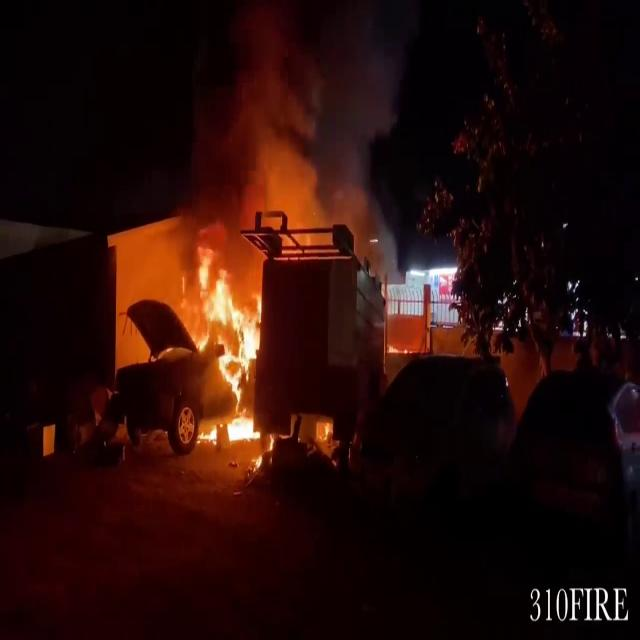Fire: (189, 244, 269, 446)
Smoke: (176, 1, 415, 223)
